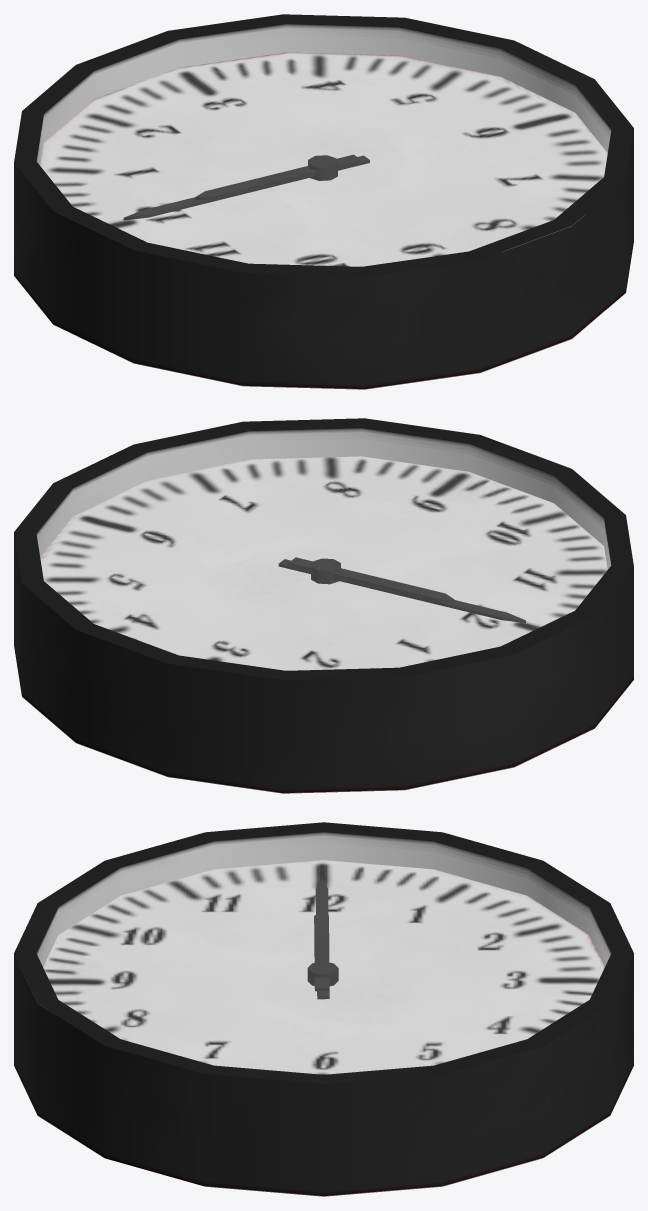
File: Clock.fbx
3 views of the same model, one above another, from view 1: azimuth 30°, elevation 25°; view 2: azimuth 150°, elevation 25°; view 3: azimuth 270°, elevation 25° (orthographic).
Visible parts, largest first — view 1: Clock, Clock_Hour, Clock_Minute; view 2: Clock, Clock_Hour, Clock_Minute; view 3: Clock, Clock_Hour.
Boxes of the visible parts, bbox=[...] form: Clock: bbox=[14, 14, 633, 389]; Clock_Hour: bbox=[195, 154, 361, 199]; Clock_Minute: bbox=[123, 155, 369, 220]; Clock: bbox=[14, 418, 633, 793]; Clock_Hour: bbox=[288, 557, 454, 602]; Clock_Minute: bbox=[278, 559, 525, 622]; Clock: bbox=[14, 822, 633, 1196]; Clock_Hour: bbox=[314, 910, 329, 991].
Bounding box in the file's own units: 20 × 4 × 20.
